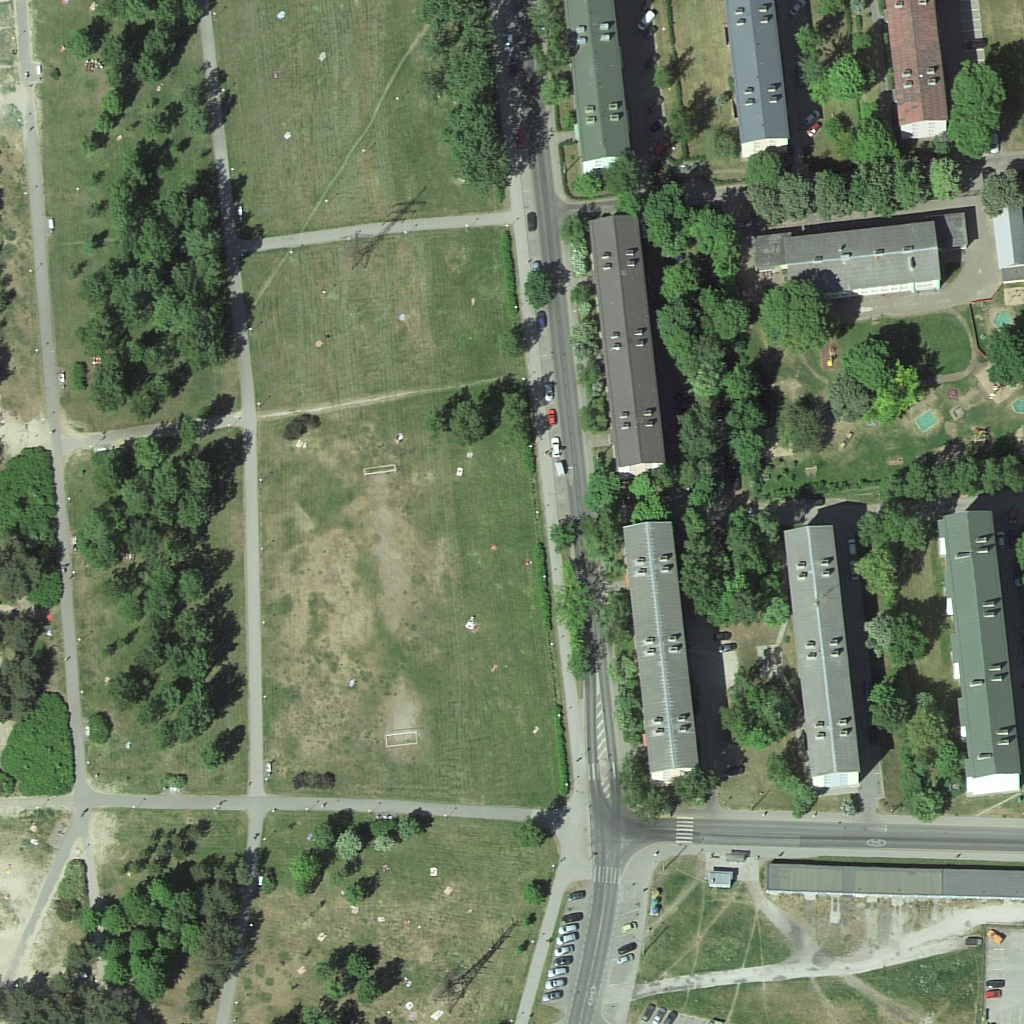building: (937, 507, 1024, 791), (779, 523, 864, 784), (587, 208, 670, 469), (623, 520, 700, 773), (784, 219, 944, 296), (563, 3, 638, 167), (882, 8, 952, 136), (763, 864, 943, 904), (992, 207, 1024, 287)
